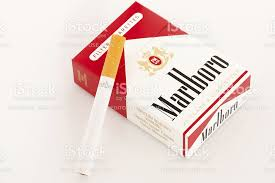marlboro: (71, 8, 240, 126)
